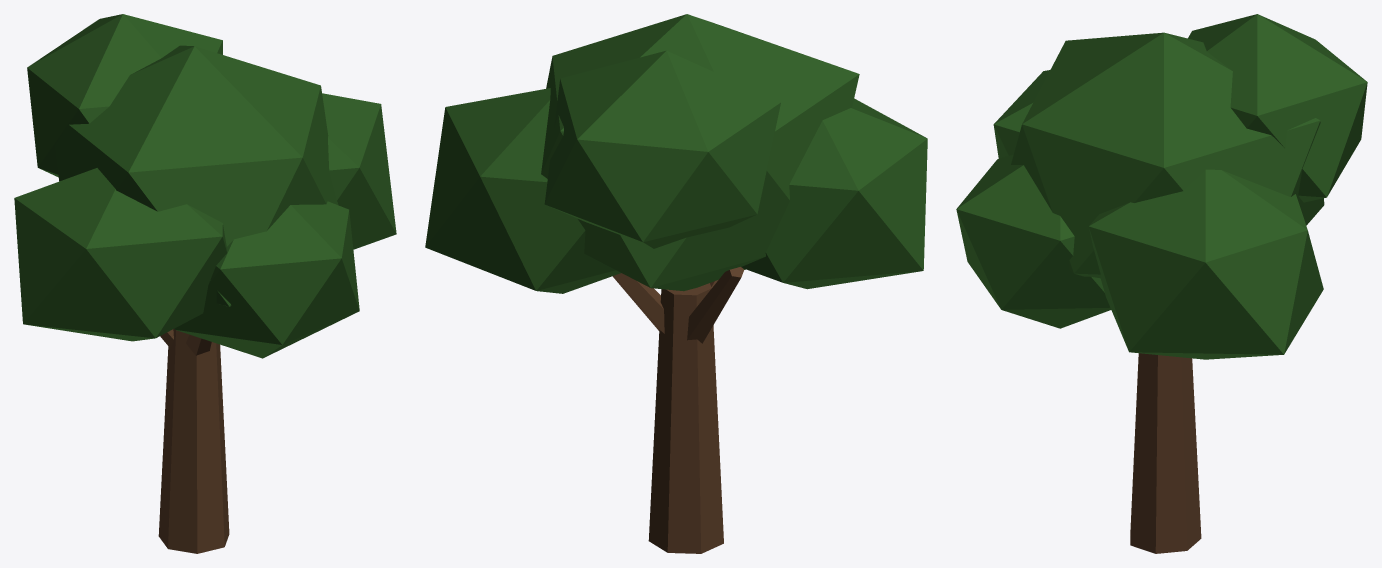
The model's file is TreeOak.glb.
3 renders of one model, left to right at view 1: azimuth 30°, elevation 25°; view 2: azimuth 150°, elevation 25°; view 3: azimuth 270°, elevation 25°, orthographic. The views are drawn at different scales.
Parts seen in each view (by area): view 1: Crown, Trunk; view 2: Crown, Trunk; view 3: Crown, Trunk.
Boxes of the visible parts, <box> form: Crown: <box>14,14,396,358</box>; Trunk: <box>158,328,229,553</box>; Crown: <box>425,14,927,293</box>; Trunk: <box>612,267,744,553</box>; Crown: <box>956,14,1367,359</box>; Trunk: <box>1130,353,1201,553</box>.
Size of the model in its own units: 4.61 by 5.44 by 3.96.
